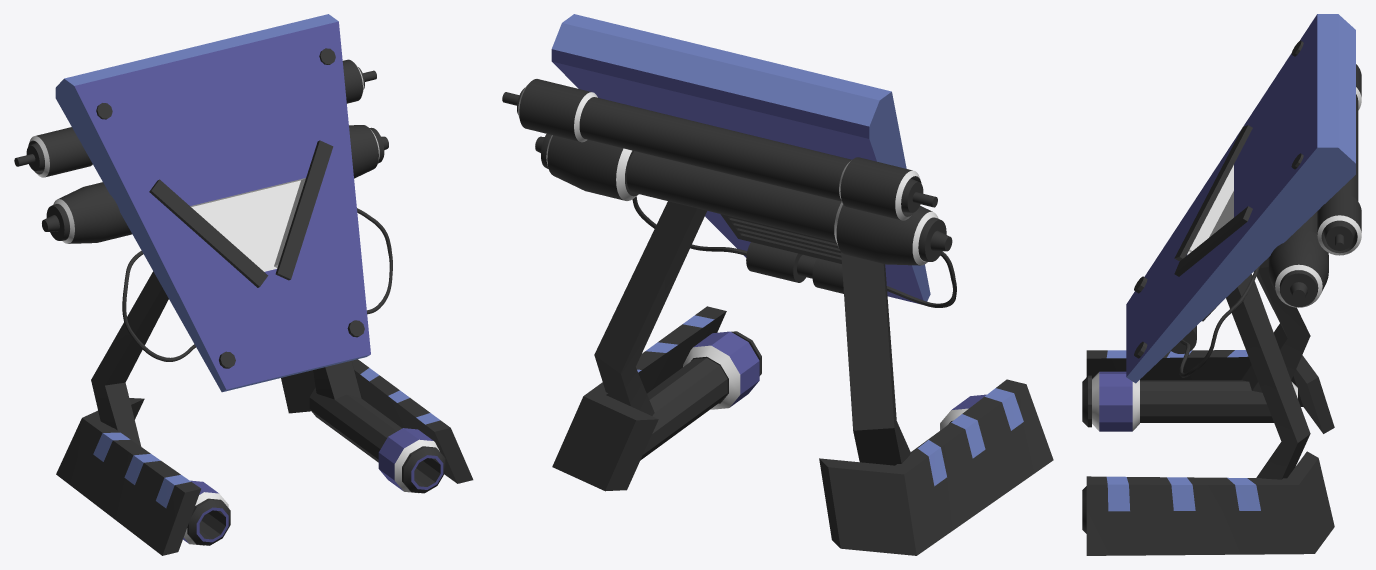
The model's file is Light Weight Drone.fbx.
3 renders of one model, left to right at view 1: azimuth 30°, elevation 25°; view 2: azimuth 150°, elevation 25°; view 3: azimuth 270°, elevation 25°, orthographic. The views are drawn at different scales.
Parts seen in each view (by area): view 1: Body, Guns; view 2: Body, Guns; view 3: Body, Guns.
Part boxes in pixels (x1,y1,x2,y2): Body: (14,14,392,392); Guns: (56,271,473,555); Body: (502,14,956,307); Guns: (552,201,1053,555); Body: (1126,14,1361,383); Guns: (1082,267,1334,555).
Size of what is drawn, in the model's own units: 2.07 by 2.15 by 1.35.
